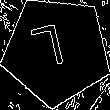L_S: (36, 23, 77, 79)
